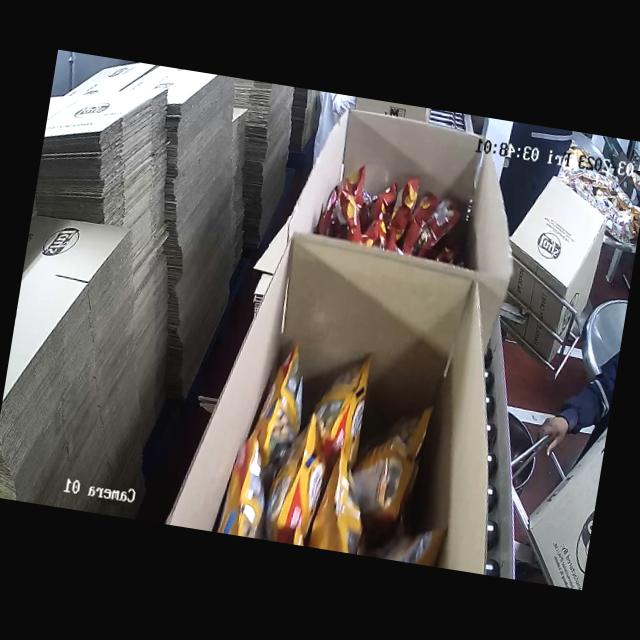cheese: (214, 370, 436, 563)
masala: (310, 179, 464, 262)
